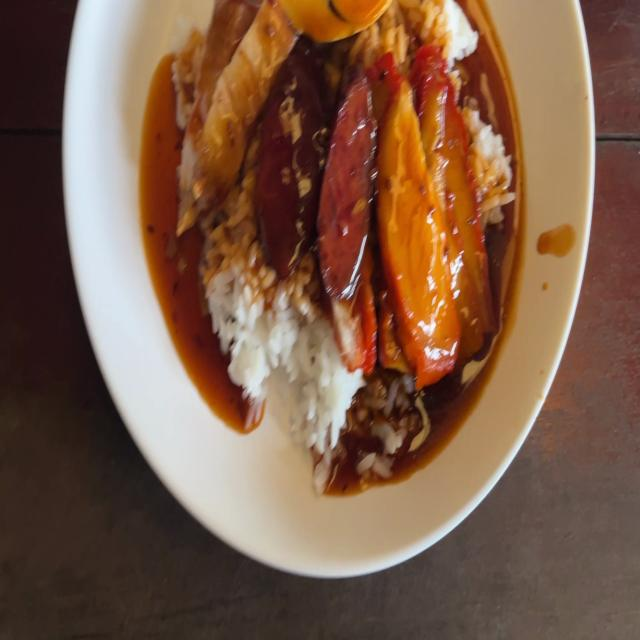01chainese_sausage: (255, 60, 379, 281)
01crispy_pork: (182, 0, 277, 205)
01red_pork: (378, 79, 483, 356)
01red_pork_and_crispy_pork: (174, 0, 515, 471)
01rice: (254, 300, 345, 449), (212, 208, 268, 390), (405, 1, 482, 59)
